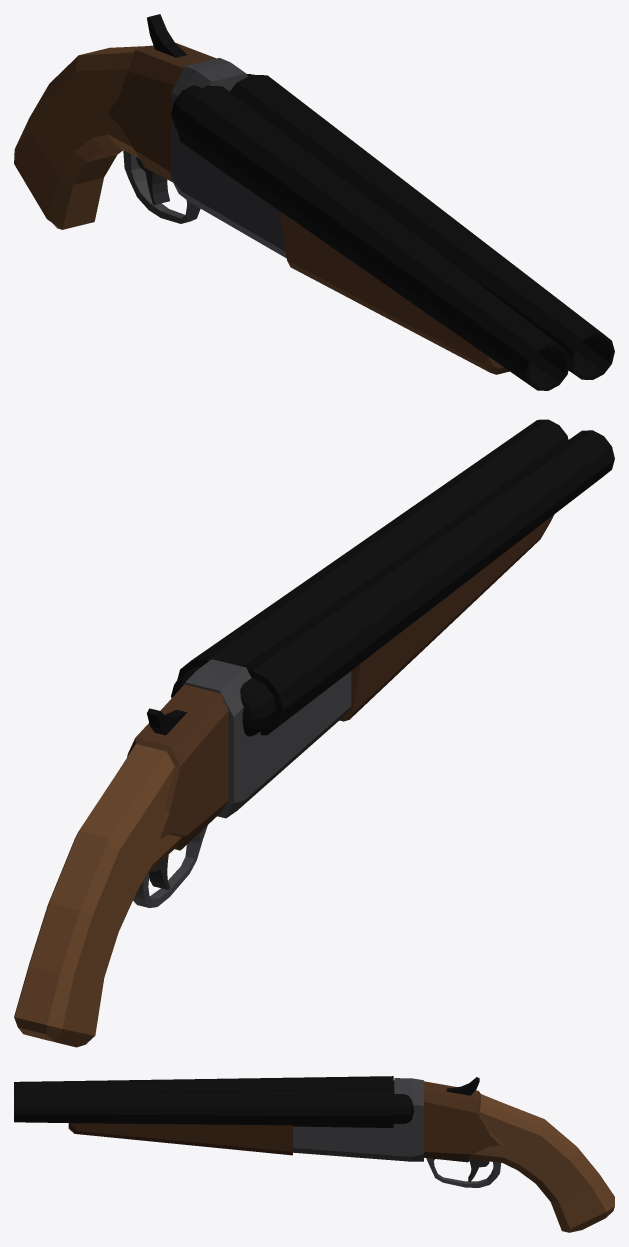
File: sawed_off.glb
The picture shows the model from 3 angles, top to bottom: view 1: azimuth 30°, elevation 25°; view 2: azimuth 150°, elevation 25°; view 3: azimuth 270°, elevation 25°; orthographic projection. The views are drawn at different scales.
Visible parts, largest first — view 1: Shotgun_SawedOff; view 2: Shotgun_SawedOff; view 3: Shotgun_SawedOff.
Boxes of the visible parts, box(x1,y1,x2,y2) form: Shotgun_SawedOff: box(14, 14, 614, 390); Shotgun_SawedOff: box(14, 419, 614, 1047); Shotgun_SawedOff: box(14, 1076, 614, 1232).
Size of the model in its own units: 0.0619 by 0.1494 by 0.54.
